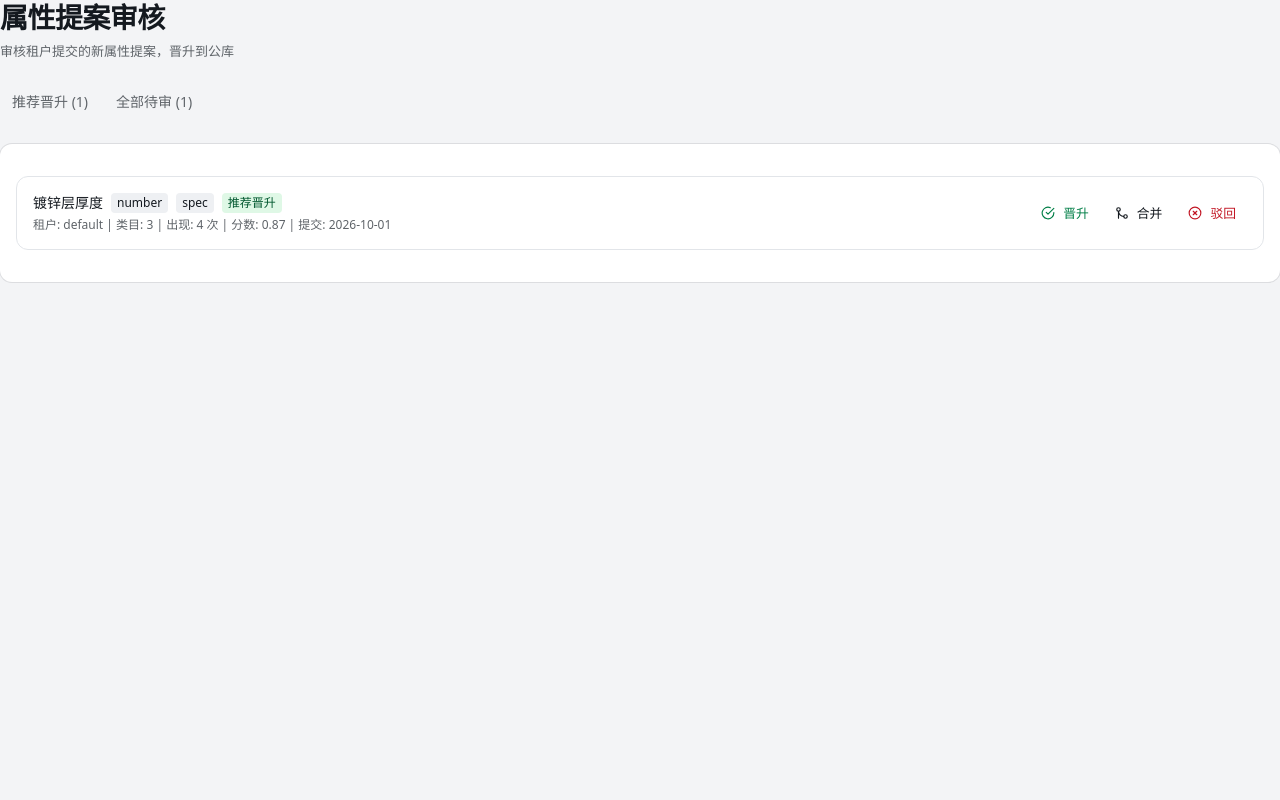
Test: 属性提案审核 · 审批动作 › 审批失败 → 弹窗内显示后端原因，弹窗不关
This screenshot has width=1280, height=800.
Click the button "晋升" at (1065, 213), box [1030,199,1100,227]
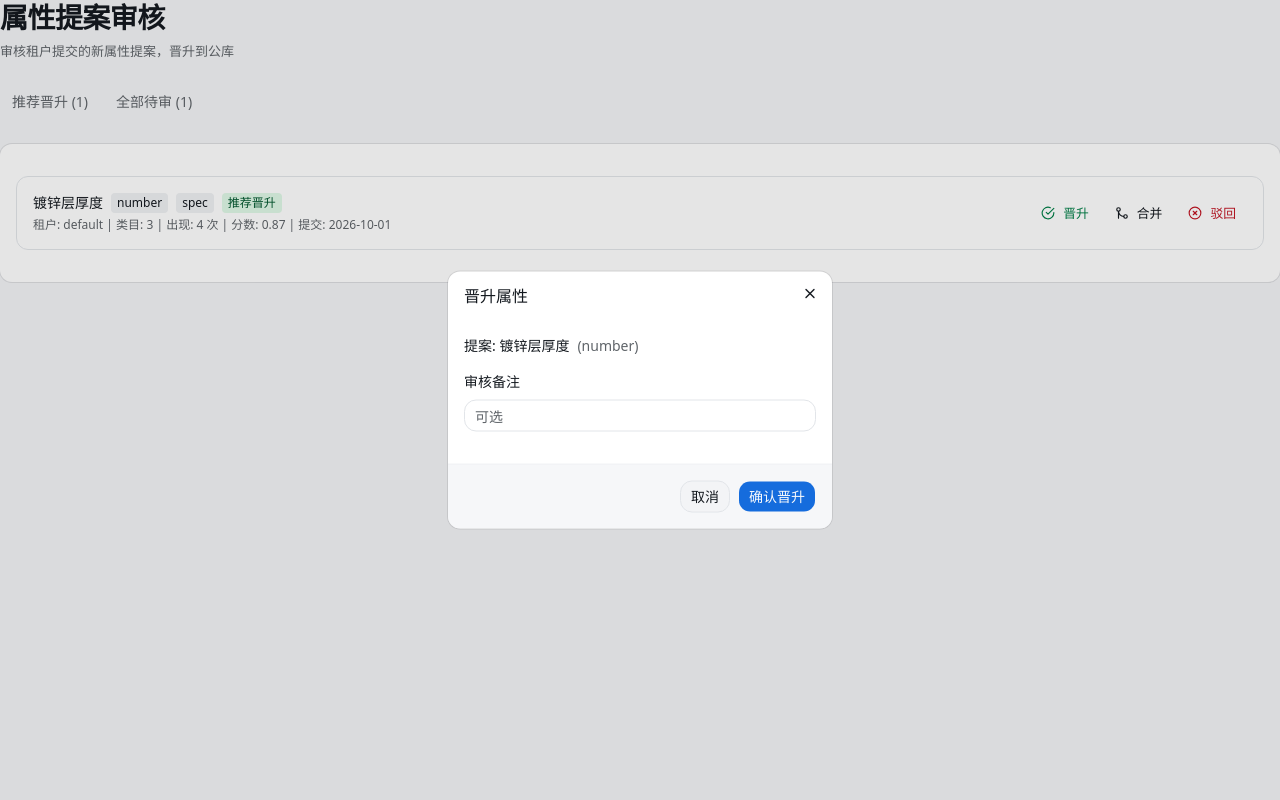
Click the button "确认晋升" at (777, 496), box [738,480,816,512]
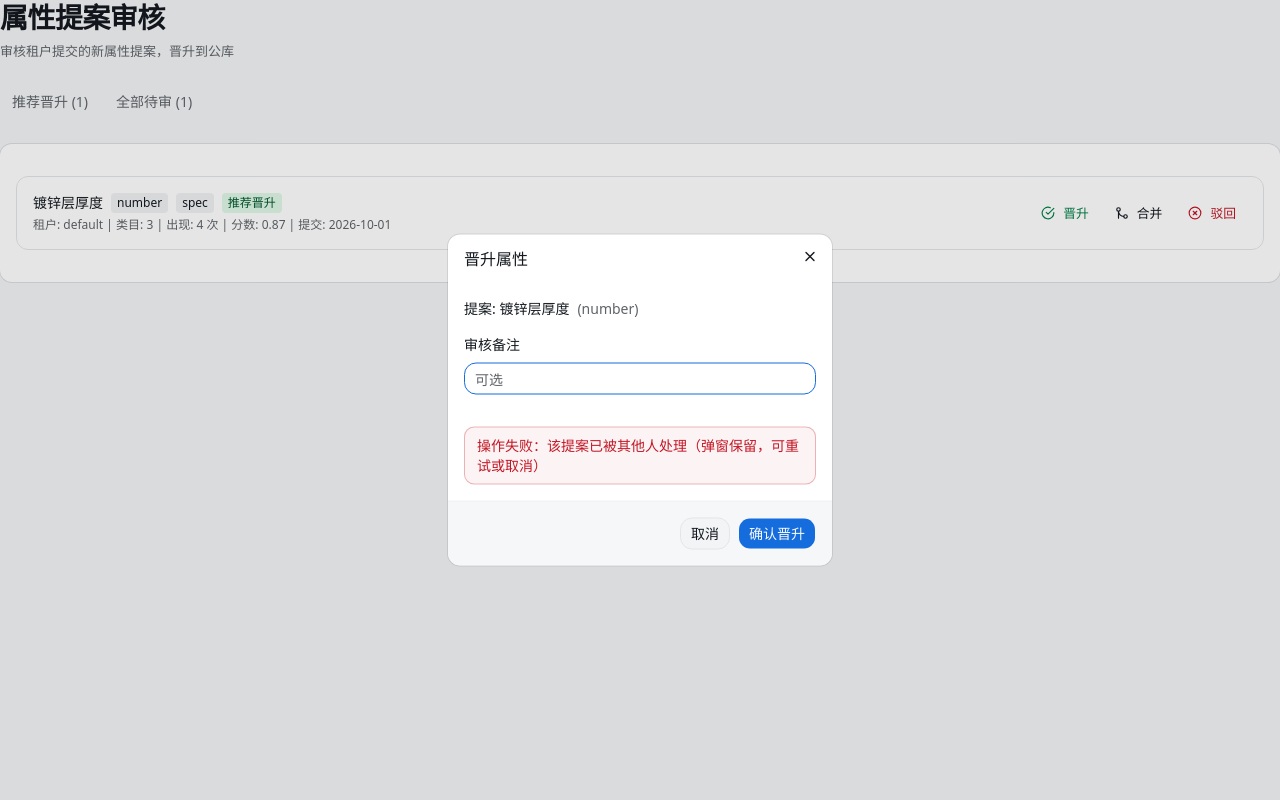
Result: the text "确认晋升" is shown at [738,518,816,550]
Result: the message "操作失败：该提案已被其他人处理（弹窗保留，可重试或取消）" is shown at [464,426,816,484]
